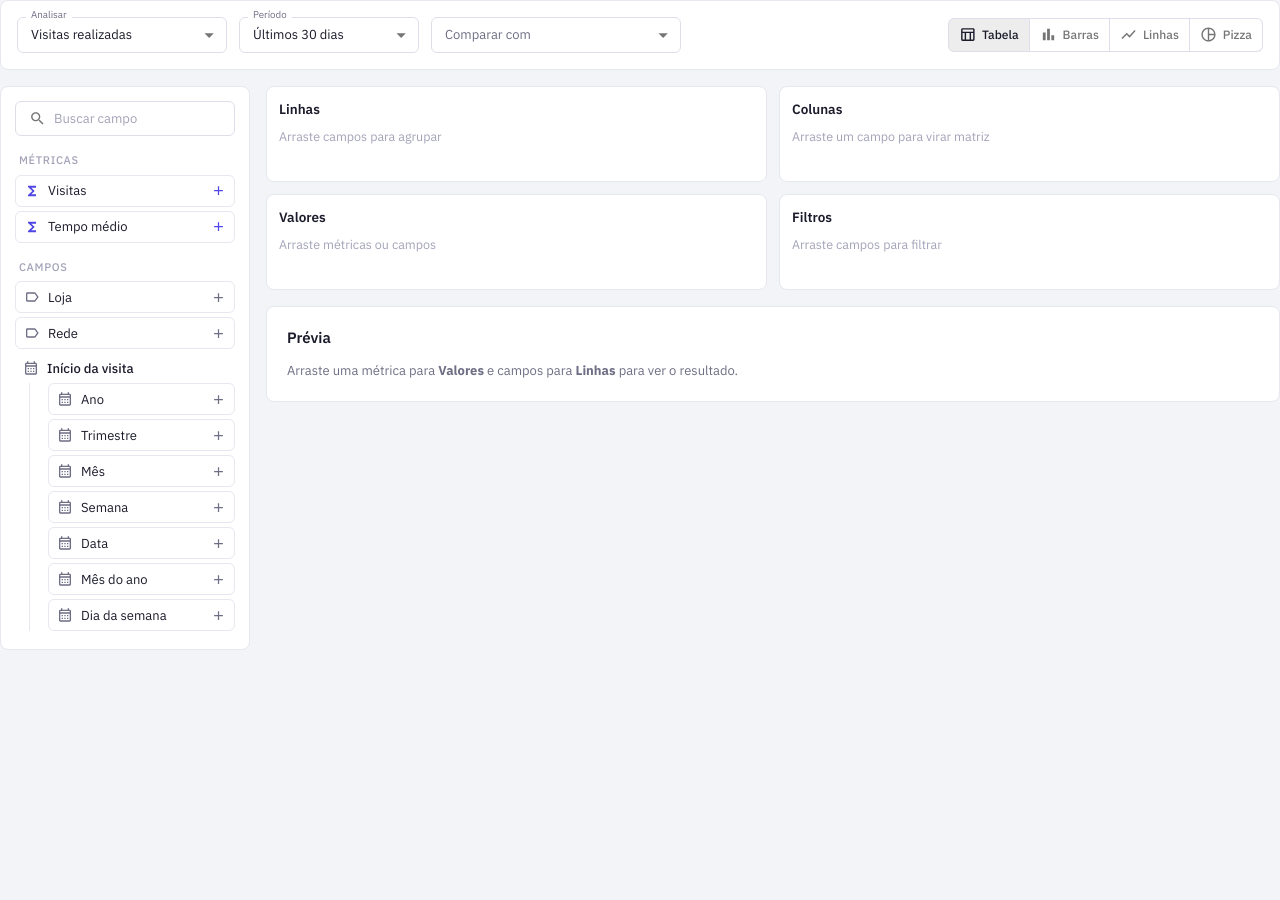
RelatorioEditorPage › monta o relatório com cliques e a prévia vem do backend
Click the button "Visitas": click(125, 191) [15,175,235,207]
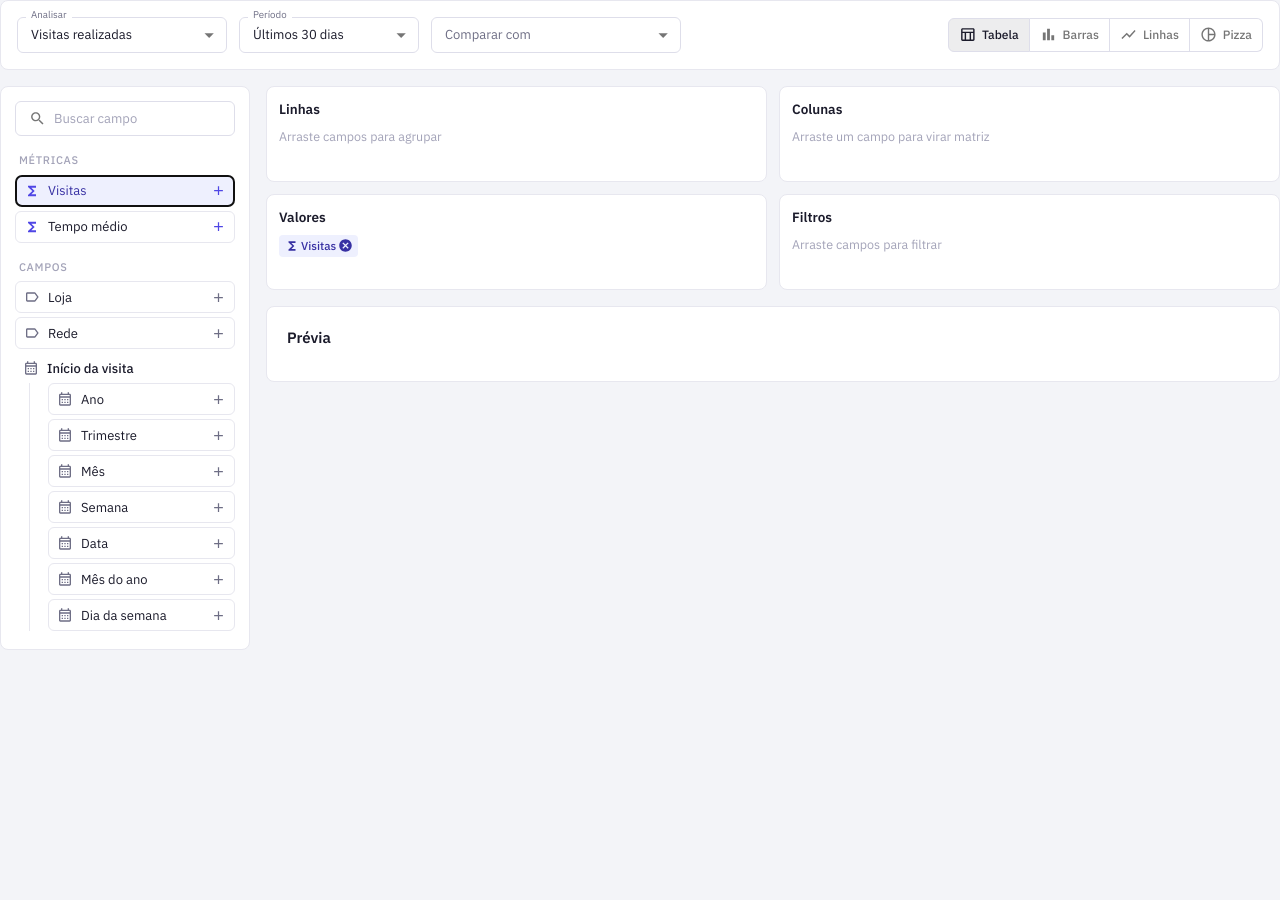
Click the button "Loja": click(125, 297) [15,281,235,313]
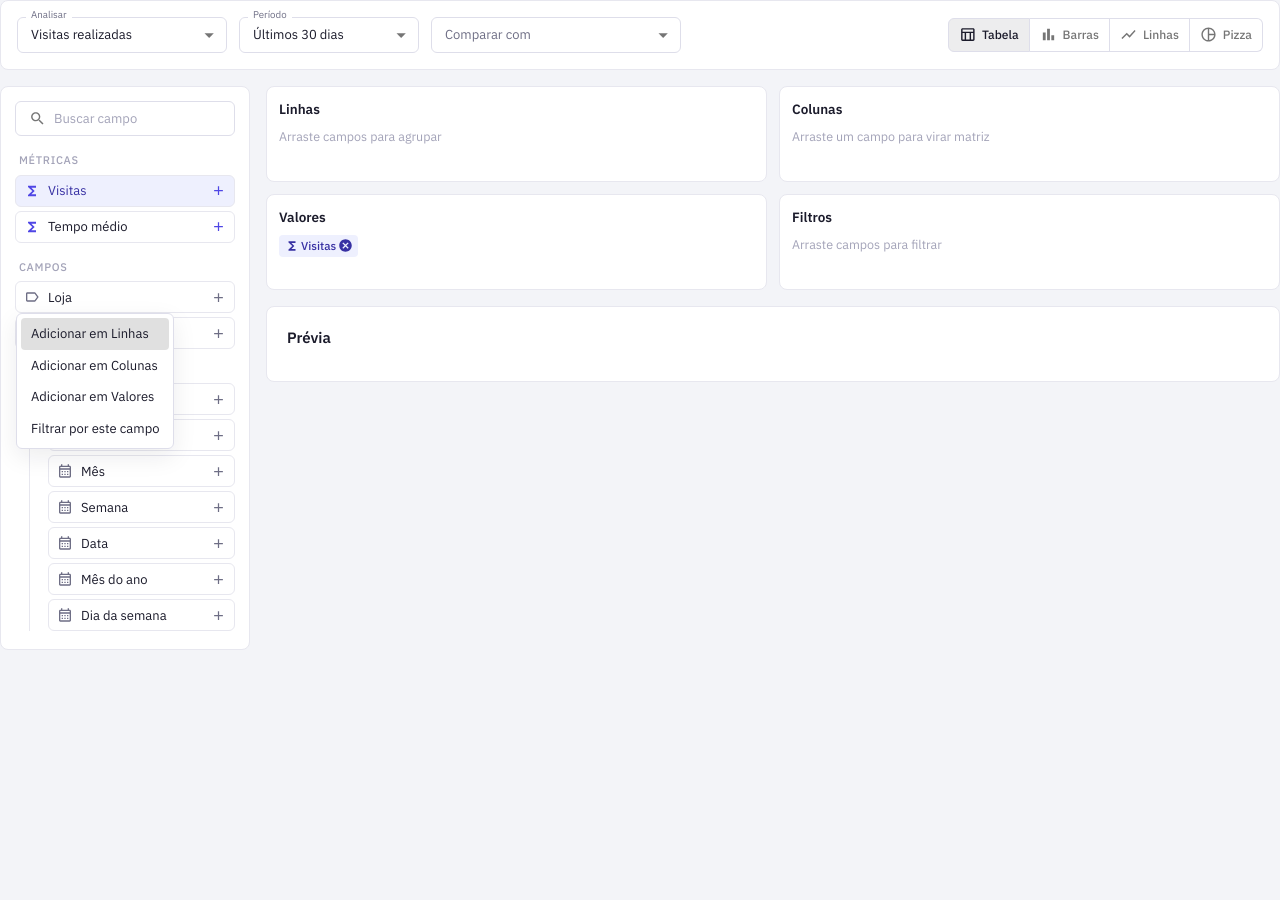
Click the menu item "Adicionar em Linhas": click(95, 334) [21,318,170,350]
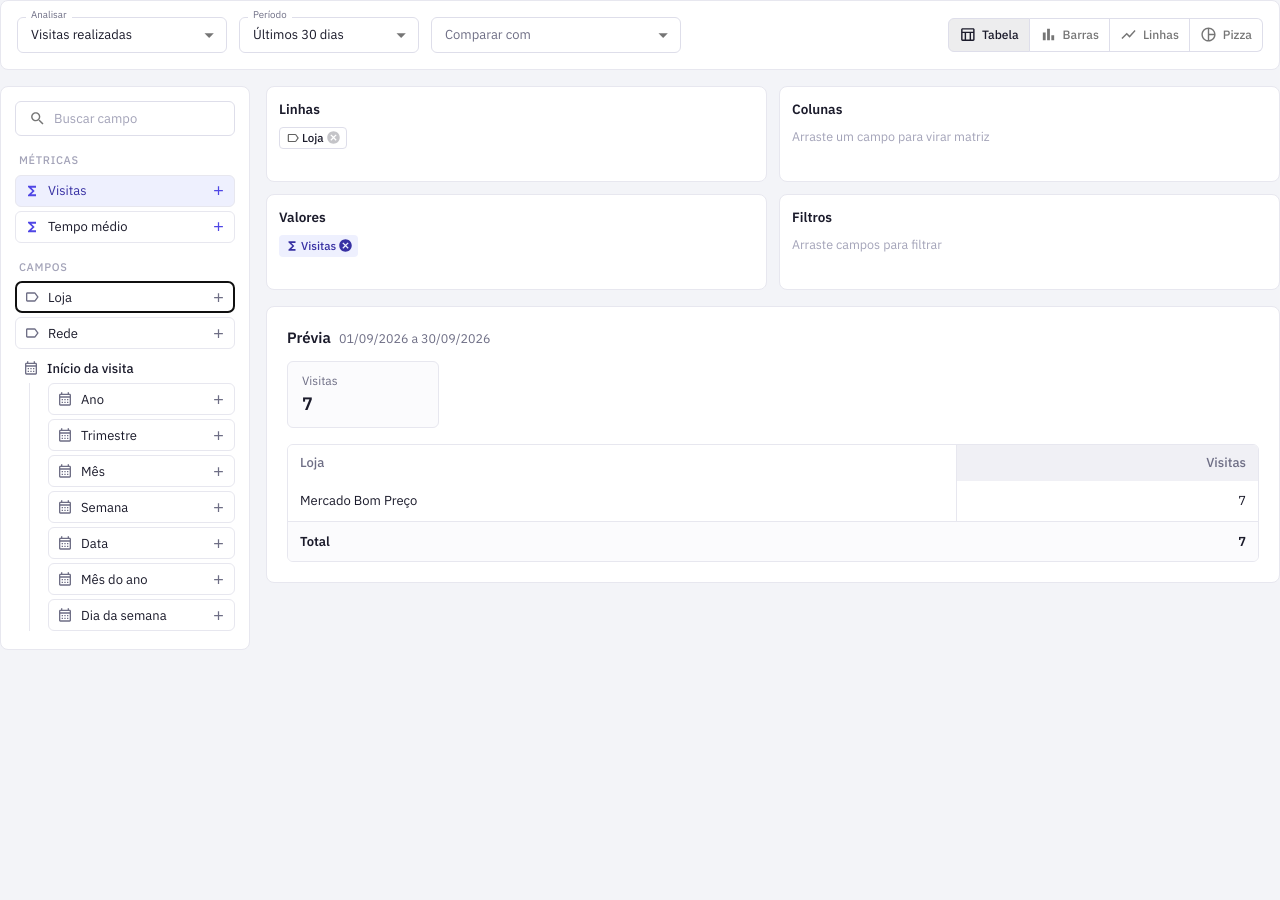
Now the text "Mercado Bom Preço" is shown, box [288,481,956,521]
